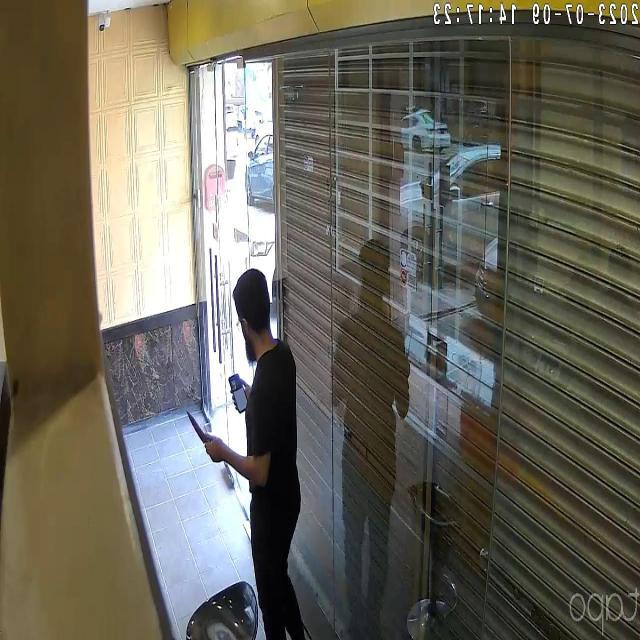Knife: (180, 402, 215, 459)
